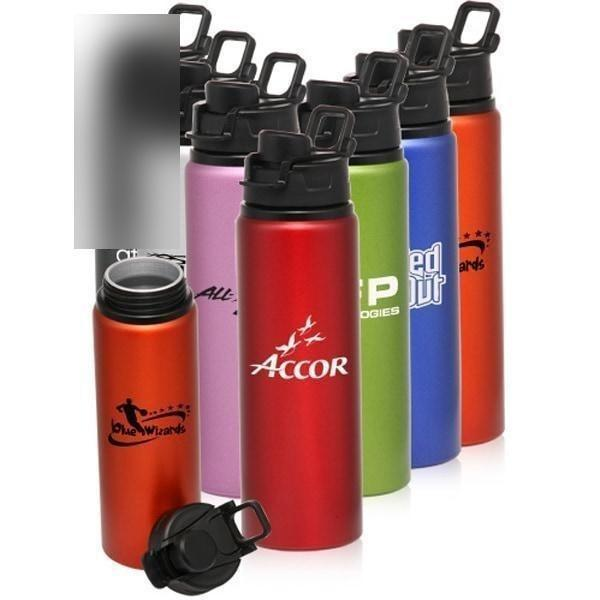gym bottle: (233, 104, 365, 555), (183, 68, 266, 511), (88, 255, 202, 569), (442, 1, 508, 449), (398, 25, 464, 470), (352, 52, 416, 497)
